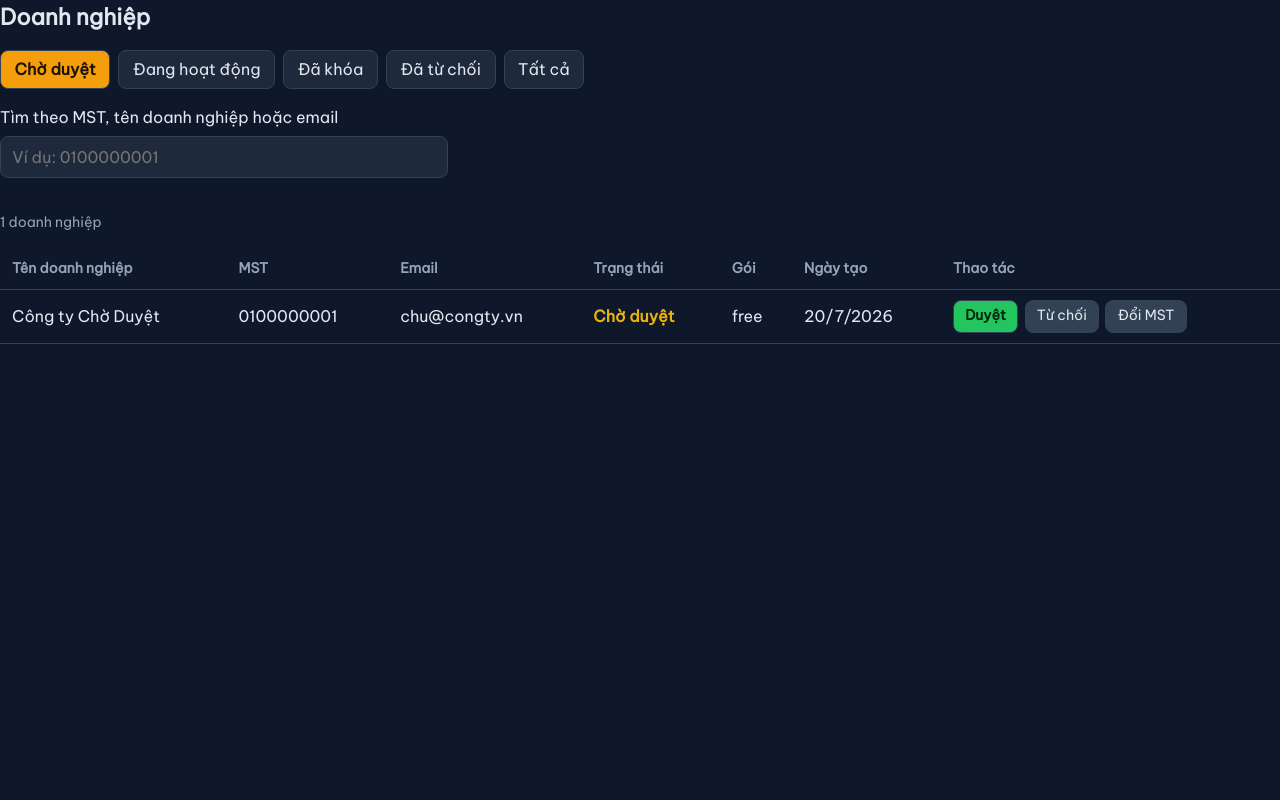
Scenario: 🔴 Lát cắt 3 — Duyệt KHÔNG còn hiện mật khẩu, chỉ báo đã gửi thư › 🔴 gửi thư HỎNG → cảnh báo và có nút gửi lại ngay trong hộp thoại
The image size is (1280, 800).
Step 1. Click the button "Duyệt" → (986, 316), box left=953, top=300, right=1018, bottom=333
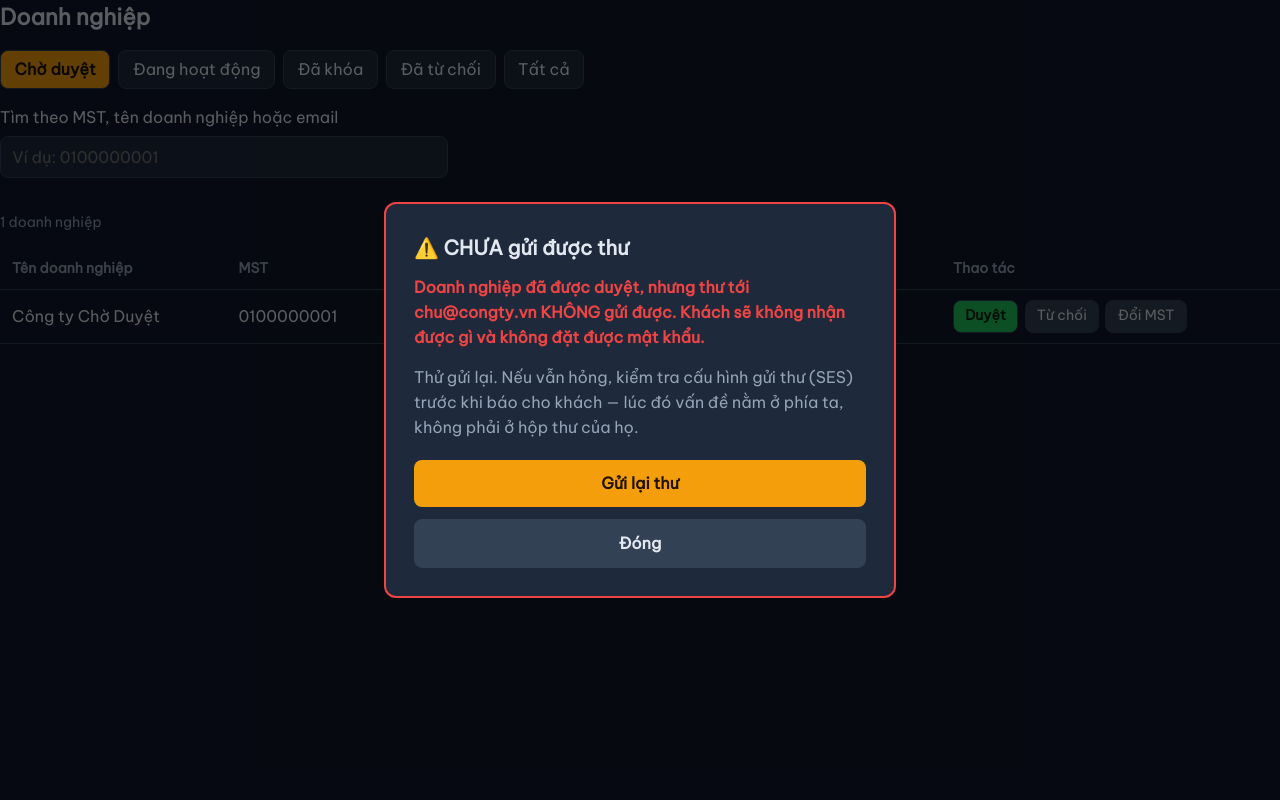
Check: the heading "⚠️ CHƯA gửi được thư" is shown, box left=414, top=235, right=629, bottom=260
Check: the button "Gửi lại thư" is shown, box left=414, top=460, right=866, bottom=507
